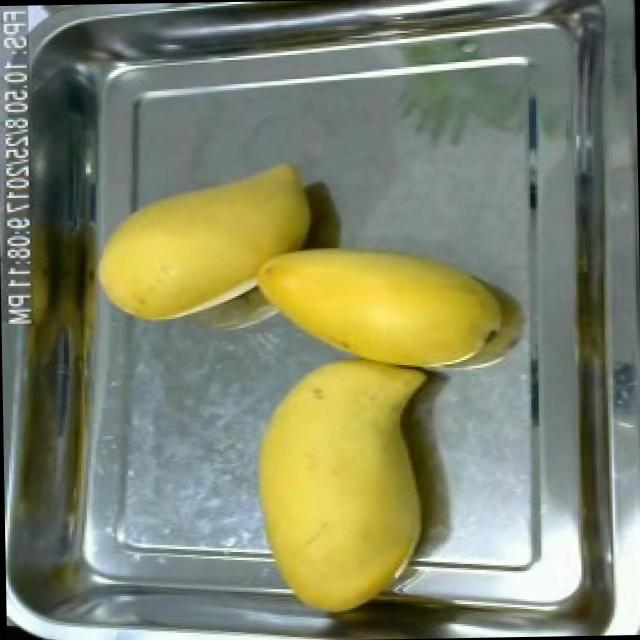fruit: (241, 340, 437, 625), (247, 230, 516, 386), (89, 160, 320, 330)
